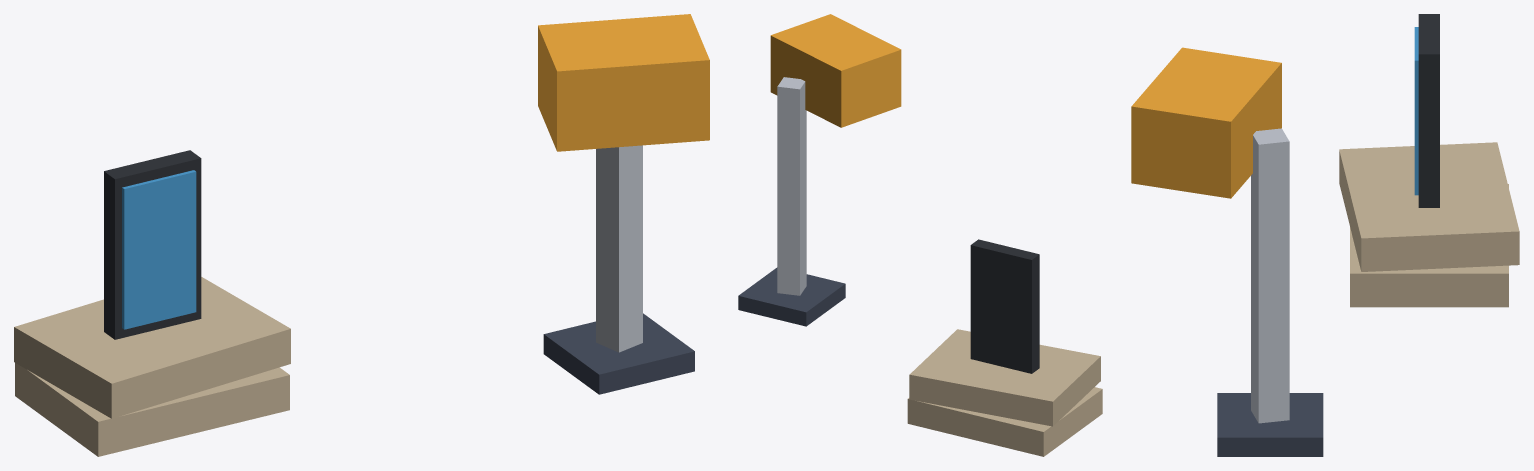
Rendered from station_buffer_1.glb.
The picture shows the model from 3 angles, left to right: view 1: azimuth 30°, elevation 25°; view 2: azimuth 150°, elevation 25°; view 3: azimuth 270°, elevation 25°; orthographic projection. The views are drawn at different scales.
Parts seen in each view (by area): view 1: lampe_schirm, buch_1, buch_0, handy_schirm, lampe_arm, lampe_fuss, handy_koerper; view 2: buch_1, lampe_schirm, handy_koerper, lampe_arm, buch_0, lampe_fuss; view 3: buch_1, lampe_schirm, lampe_arm, buch_0, lampe_fuss, handy_koerper, handy_schirm.
Boxes of the visible parts, bbox=[...] form: lampe_schirm: bbox=[538, 14, 709, 151]; buch_1: bbox=[14, 277, 290, 418]; buch_0: bbox=[15, 363, 289, 456]; handy_schirm: bbox=[122, 170, 196, 329]; lampe_arm: bbox=[596, 145, 642, 352]; lampe_fuss: bbox=[543, 313, 694, 394]; handy_koerper: bbox=[104, 150, 201, 339]; buch_1: bbox=[909, 329, 1100, 426]; lampe_schirm: bbox=[770, 14, 901, 127]; handy_koerper: bbox=[970, 239, 1039, 373]; lampe_arm: bbox=[777, 77, 806, 295]; buch_0: bbox=[907, 387, 1102, 456]; lampe_fuss: bbox=[738, 267, 845, 326]; buch_1: bbox=[1339, 142, 1519, 271]; lampe_schirm: bbox=[1131, 47, 1281, 198]; lampe_arm: bbox=[1251, 128, 1289, 423]; buch_0: bbox=[1350, 184, 1508, 307]; lampe_fuss: bbox=[1217, 393, 1323, 456]; handy_koerper: bbox=[1418, 14, 1439, 207]; handy_schirm: bbox=[1414, 27, 1418, 195].
Size of the model in its own units: 0.5602 by 0.3575 by 0.366.
